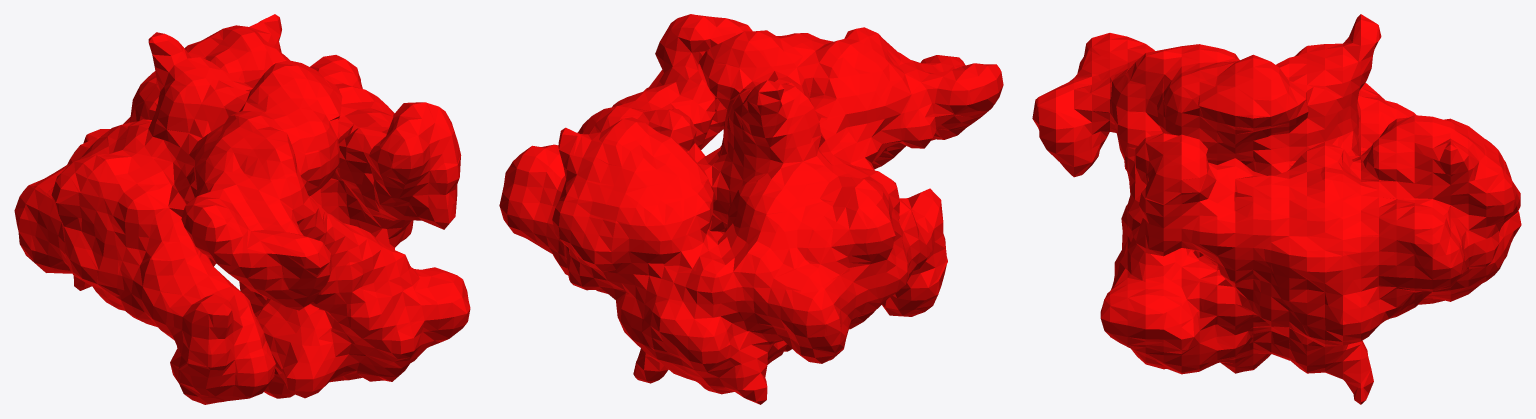
The model's file is hsdS_coarse.dae.
3 renders of one model, left to right at view 1: azimuth 30°, elevation 25°; view 2: azimuth 150°, elevation 25°; view 3: azimuth 270°, elevation 25°, orthographic. The views are drawn at different scales.
Parts seen in each view (by area): view 1: hsdS; view 2: hsdS; view 3: hsdS.
Boxes of the visible parts, x1,y1,x2,y2 form: hsdS: [14, 14, 470, 404]; hsdS: [499, 14, 1003, 404]; hsdS: [1032, 14, 1521, 404].
Size of the model in its own units: 105 by 94.23 by 129.
